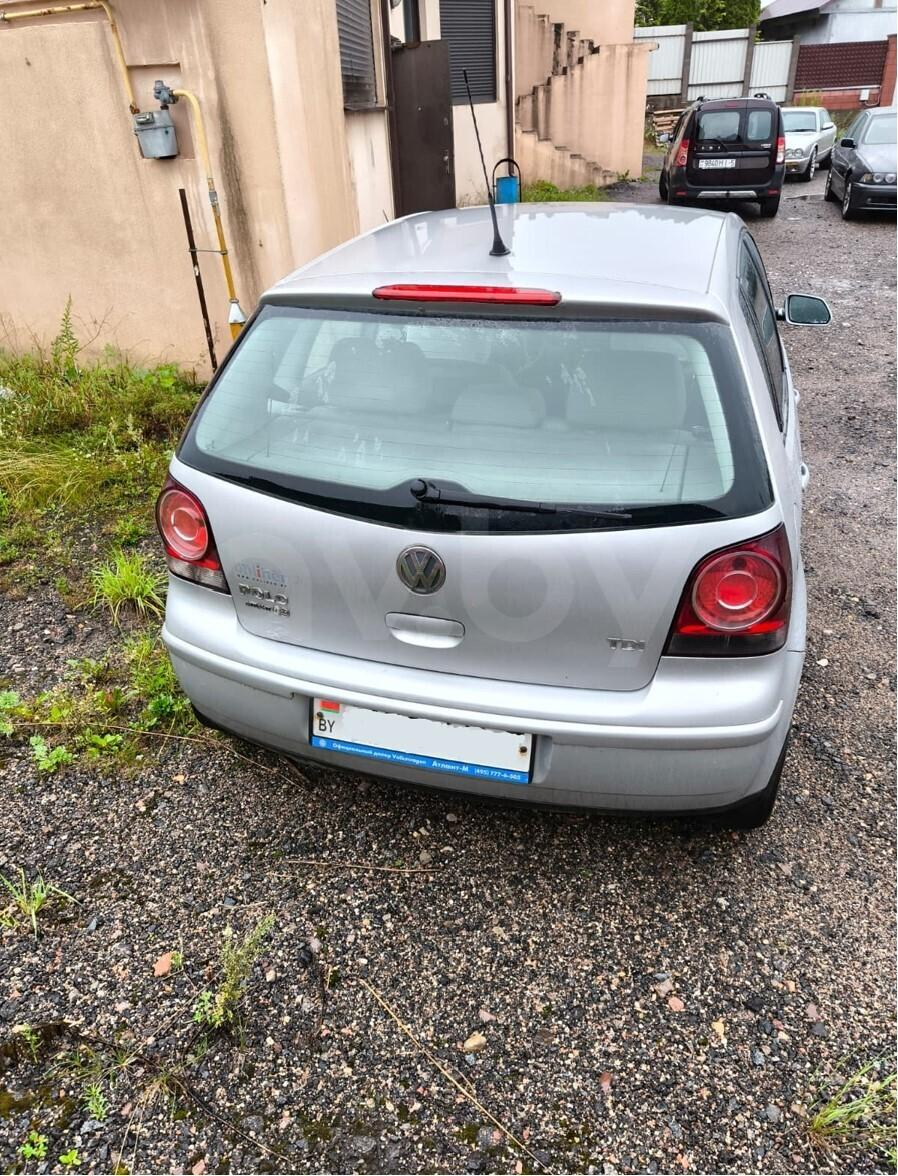Polo_2005-2009: (161, 188, 847, 855)
